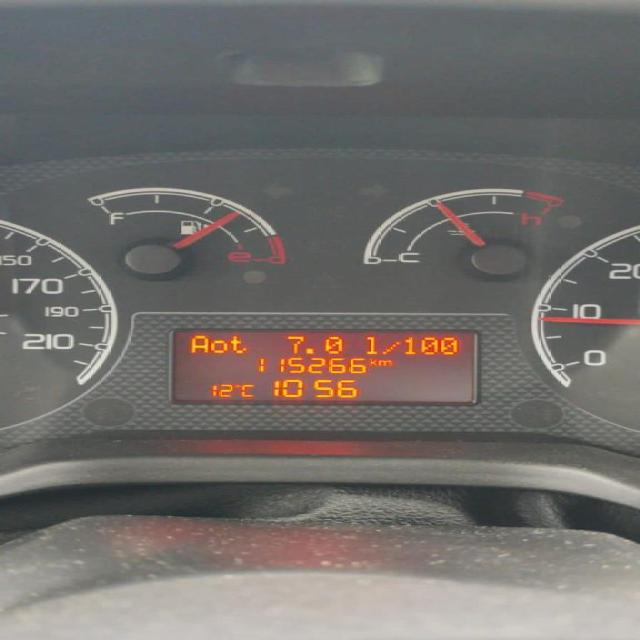odometer: (163, 324, 482, 406)
